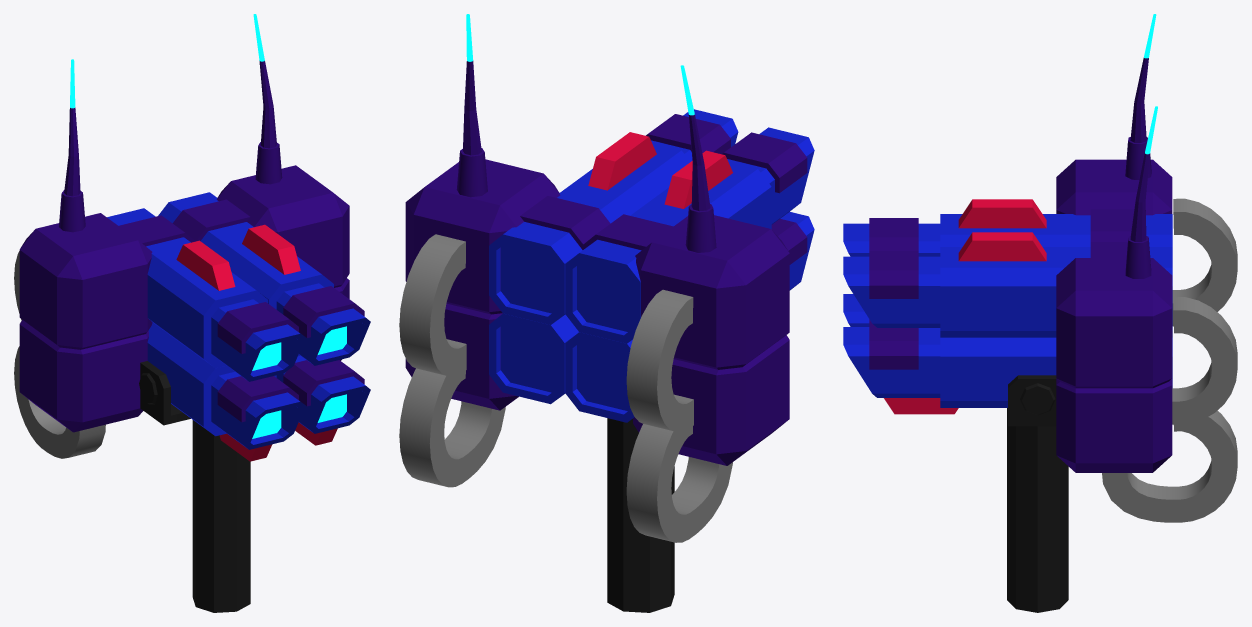
Rendered from Shooter3.fbx.
The picture shows the model from 3 angles, left to right: view 1: azimuth 30°, elevation 25°; view 2: azimuth 150°, elevation 25°; view 3: azimuth 270°, elevation 25°; orthographic projection. The views are drawn at different scales.
Visible parts, largest first — view 1: Shooter3; view 2: Shooter3; view 3: Shooter3.
Part boxes in pixels (bbox=[...]): Shooter3: bbox=[14, 14, 370, 612]; Shooter3: bbox=[399, 14, 814, 612]; Shooter3: bbox=[843, 14, 1237, 612].
Bounding box in the file's own units: 90.16 × 154 × 102.
